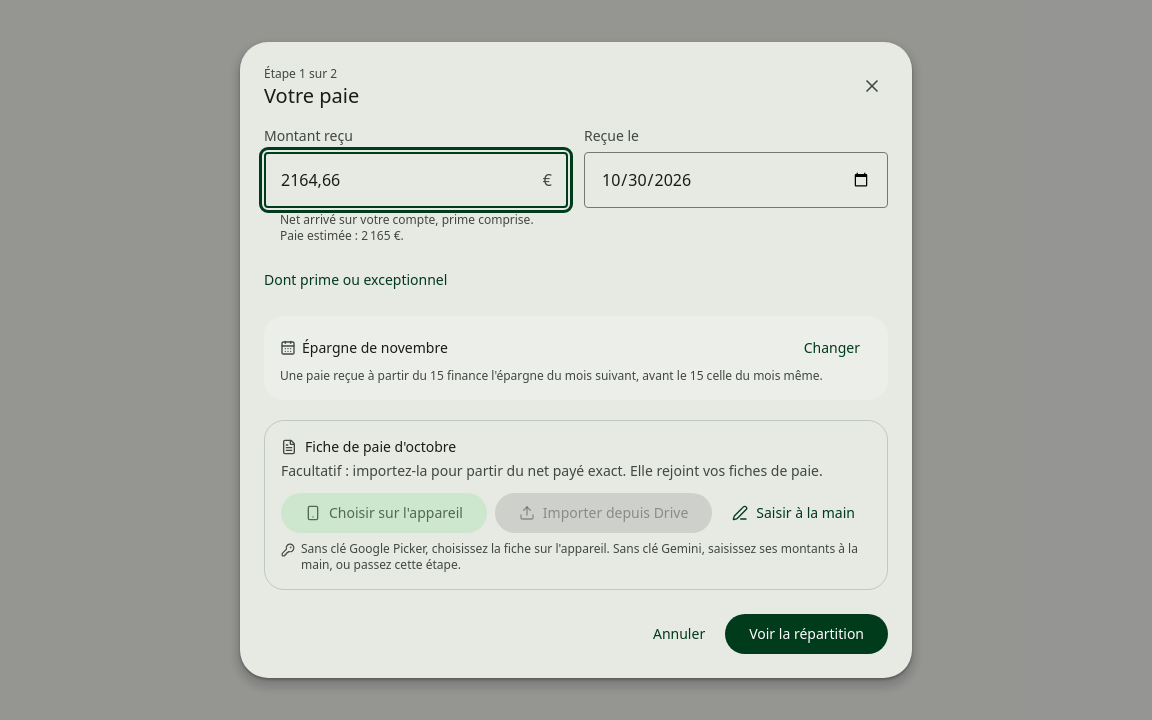
Test case: Rituel « J’ai reçu ma paie » : votre paie › fenêtre nommée, montant prérempli avec la paie estimée, reçue aujourd’hui, épargne de novembre
Expected: the dialog named "J'ai reçu ma paie" is shown, [240,42,912,678]
Expected: the heading "Votre paie" is shown, [264,82,359,110]
Type "2026-10-10" into the date field labelled "Reçue le". click: point(736, 180)
box: [584,152,888,208]
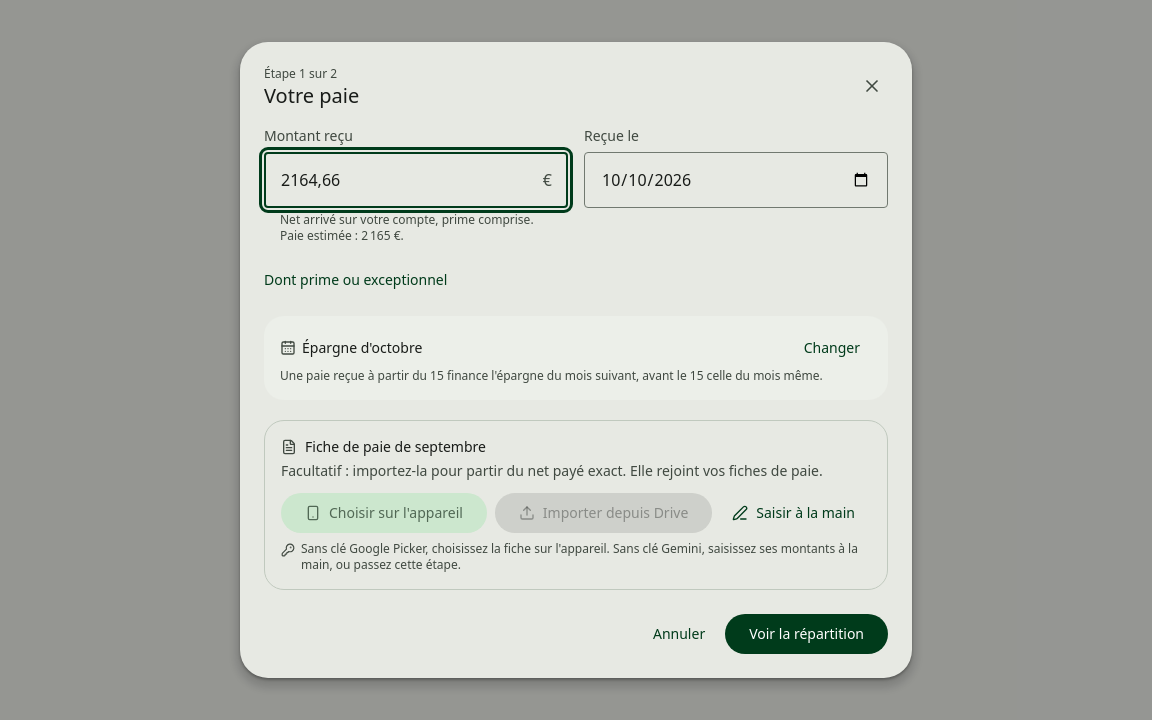
Expected: the text "Épargne d'octobre" is shown, [280,338,422,358]
Click the button "Changer". click: point(832, 348)
box: [792,332,872,364]
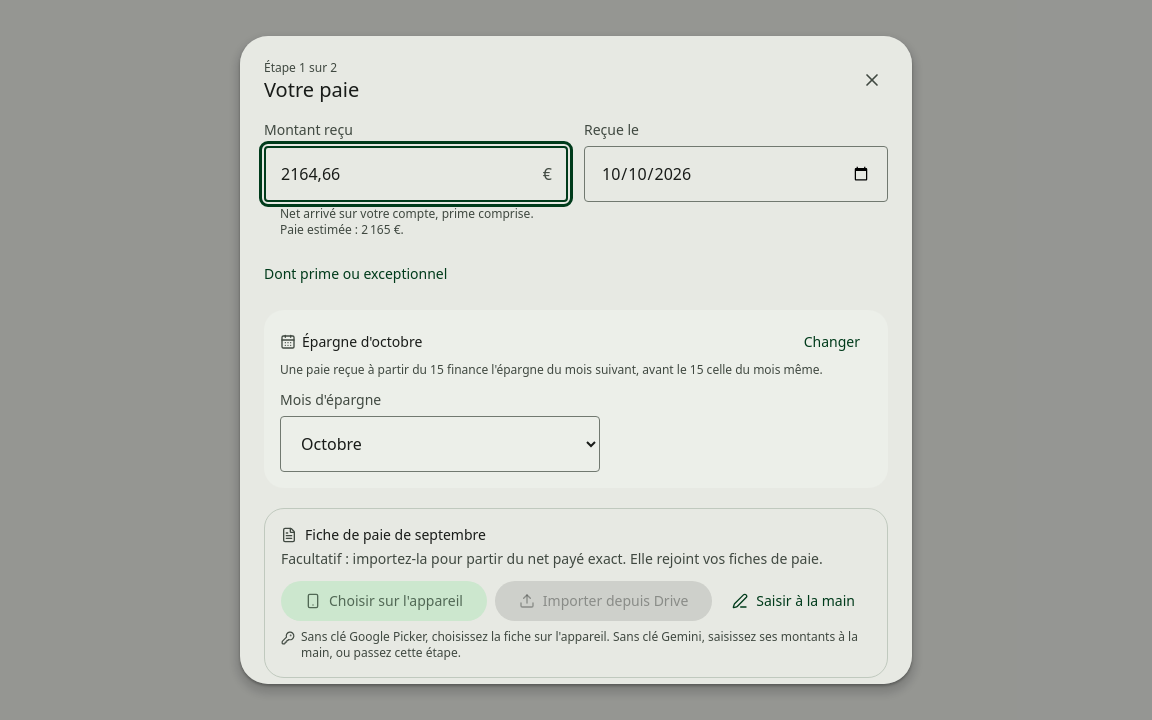
Select "Novembre" in the dropdown labelled "Mois d'épargne". click: point(440, 444)
box: [280,416,600,472]
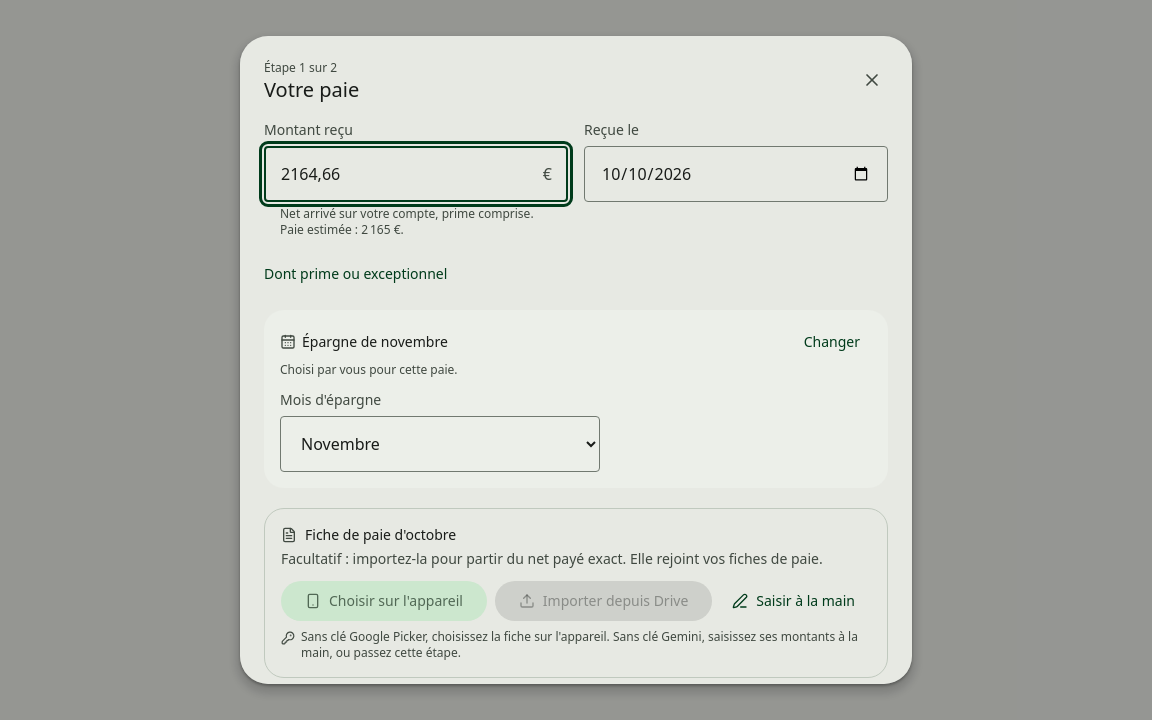
Expected: the text "Épargne de novembre" is shown, [280,332,448,352]
Expected: the text "Choisi par vous pour cette paie." is shown, [280,361,458,378]
